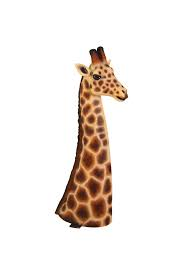Jirafa: (54, 36, 135, 229)
